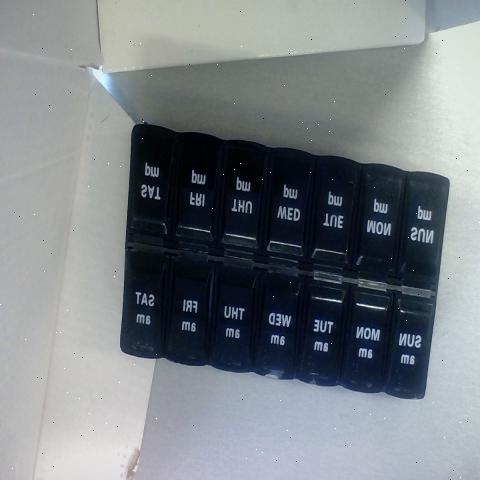FRI-am: (174, 267, 210, 362)
FRI-pm: (183, 140, 217, 248)
MON-am: (346, 289, 390, 392)
MON-pm: (360, 165, 401, 276)
SAT-am: (124, 257, 164, 354)
SAT-pm: (134, 128, 172, 238)
SUN-am: (391, 300, 426, 398)
SUN-pm: (404, 175, 442, 287)
THU-am: (217, 274, 258, 369)
THU-pm: (224, 145, 264, 253)
TUE-am: (304, 278, 344, 382)
TUE-pm: (314, 156, 357, 267)
WED-am: (258, 270, 300, 374)
WED-pm: (269, 150, 310, 262)
